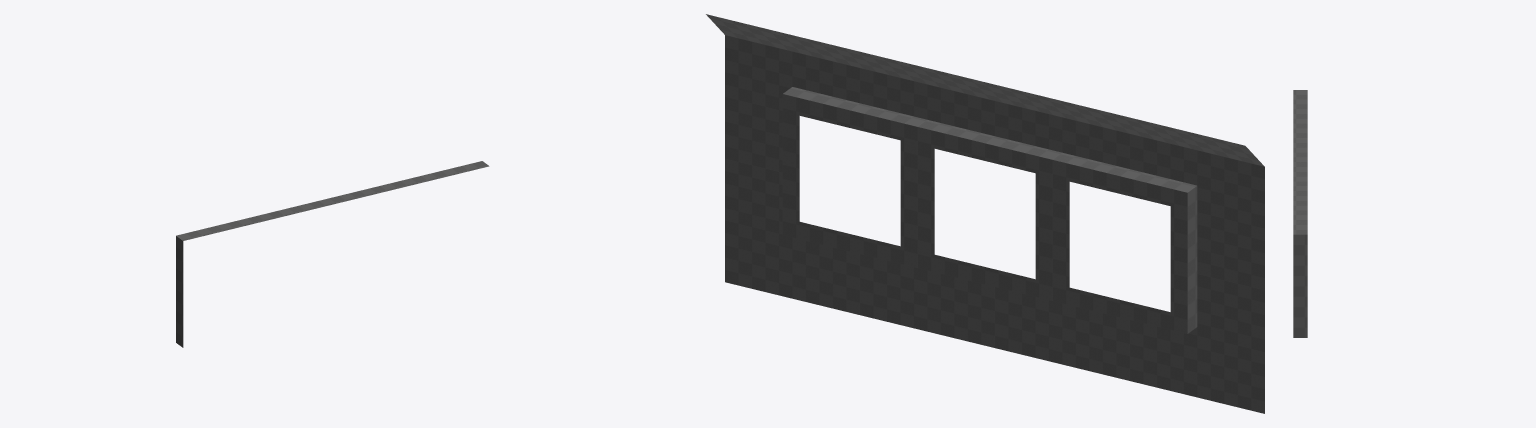
3 renders of one model, left to right at view 1: azimuth 30°, elevation 25°; view 2: azimuth 150°, elevation 25°; view 3: azimuth 270°, elevation 25°, orthographic. The views are drawn at different scales.
Parts seen in each view (by area): view 1: CubeInDownBackV3; view 2: CubeInDownBackV3; view 3: CubeInDownBackV3.
Part boxes in pixels (bbox=[...]): CubeInDownBackV3: bbox=[176, 161, 489, 347]; CubeInDownBackV3: bbox=[706, 14, 1264, 413]; CubeInDownBackV3: bbox=[1293, 90, 1307, 337].
Bounding box in the file's own units: 4 × 2 × 2.
1 material, 1 textured.
